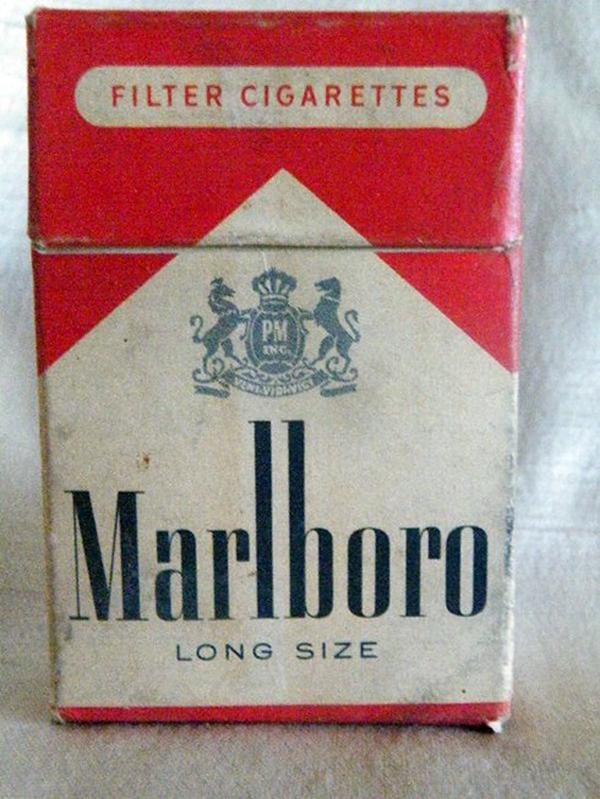marlboro_red: (49, 11, 512, 722)
